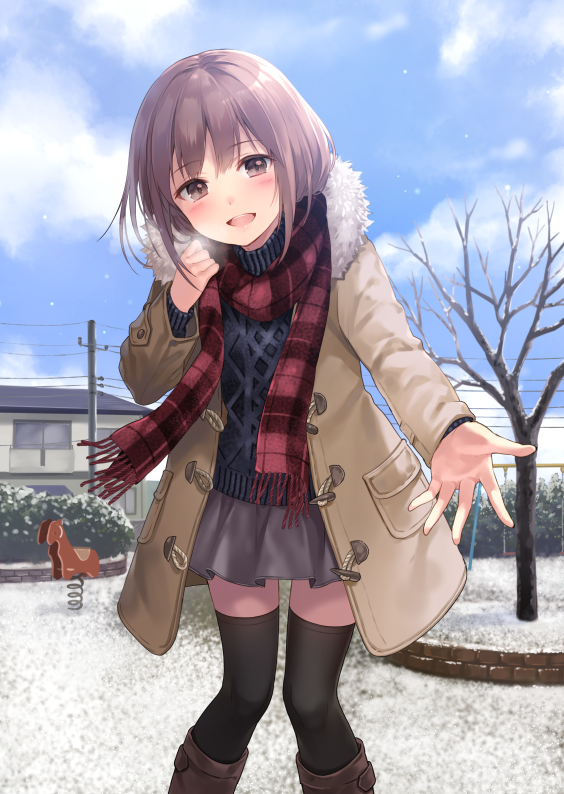纸片人正脸: (114, 40, 336, 260)
